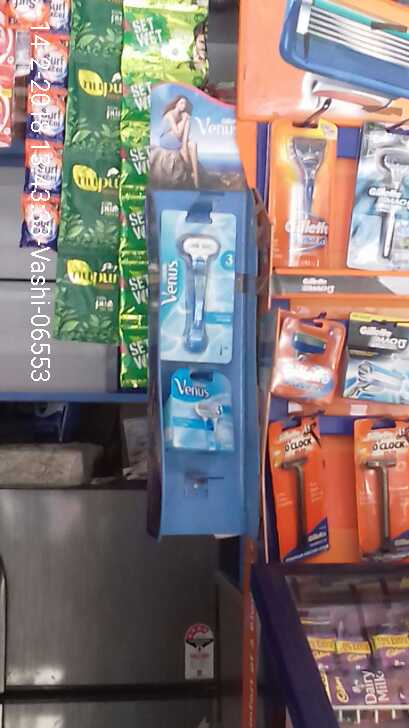beauty: (156, 203, 237, 367), (265, 414, 337, 567), (266, 121, 335, 272), (344, 119, 409, 274), (161, 367, 240, 457), (342, 308, 409, 408), (269, 308, 340, 401)
